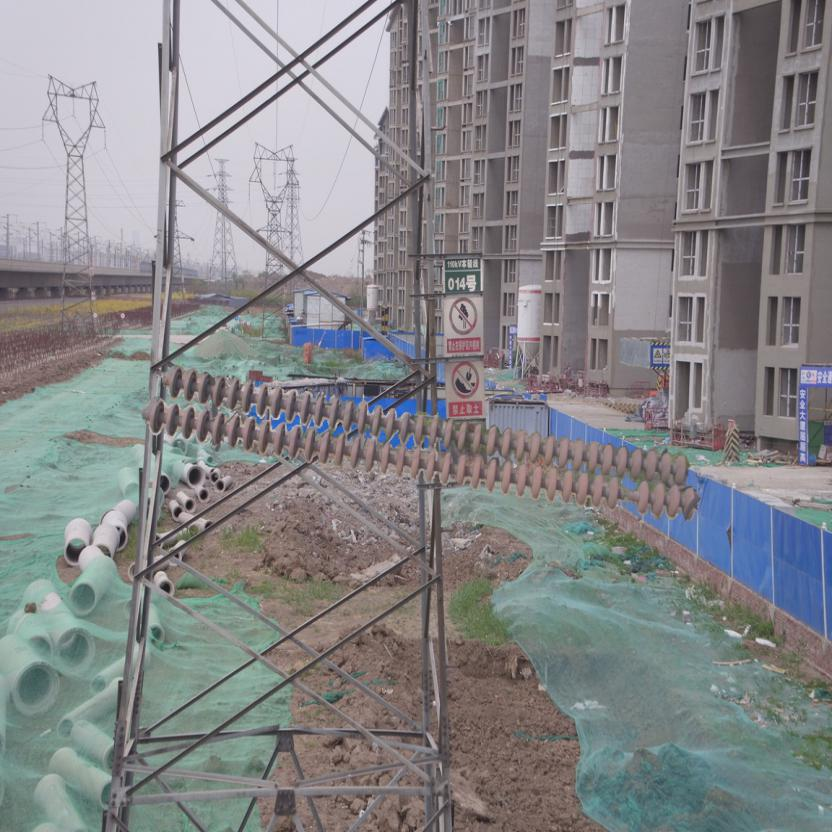defect: (602, 471, 654, 517)
